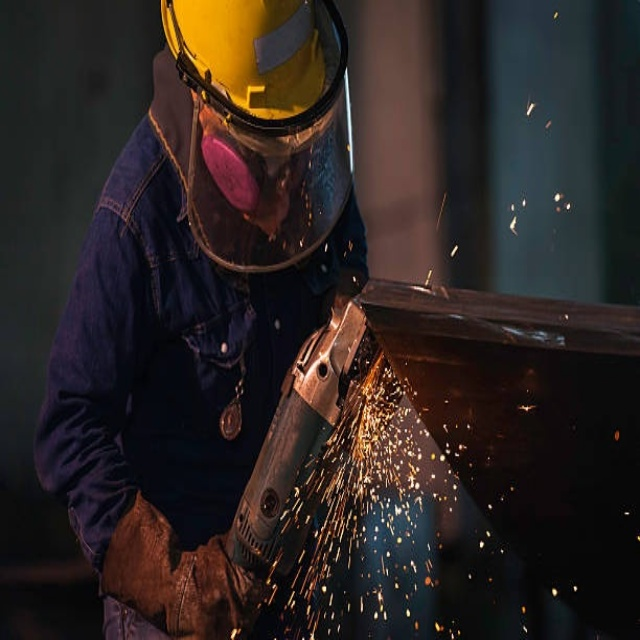Guantes: (102, 491, 267, 640)
